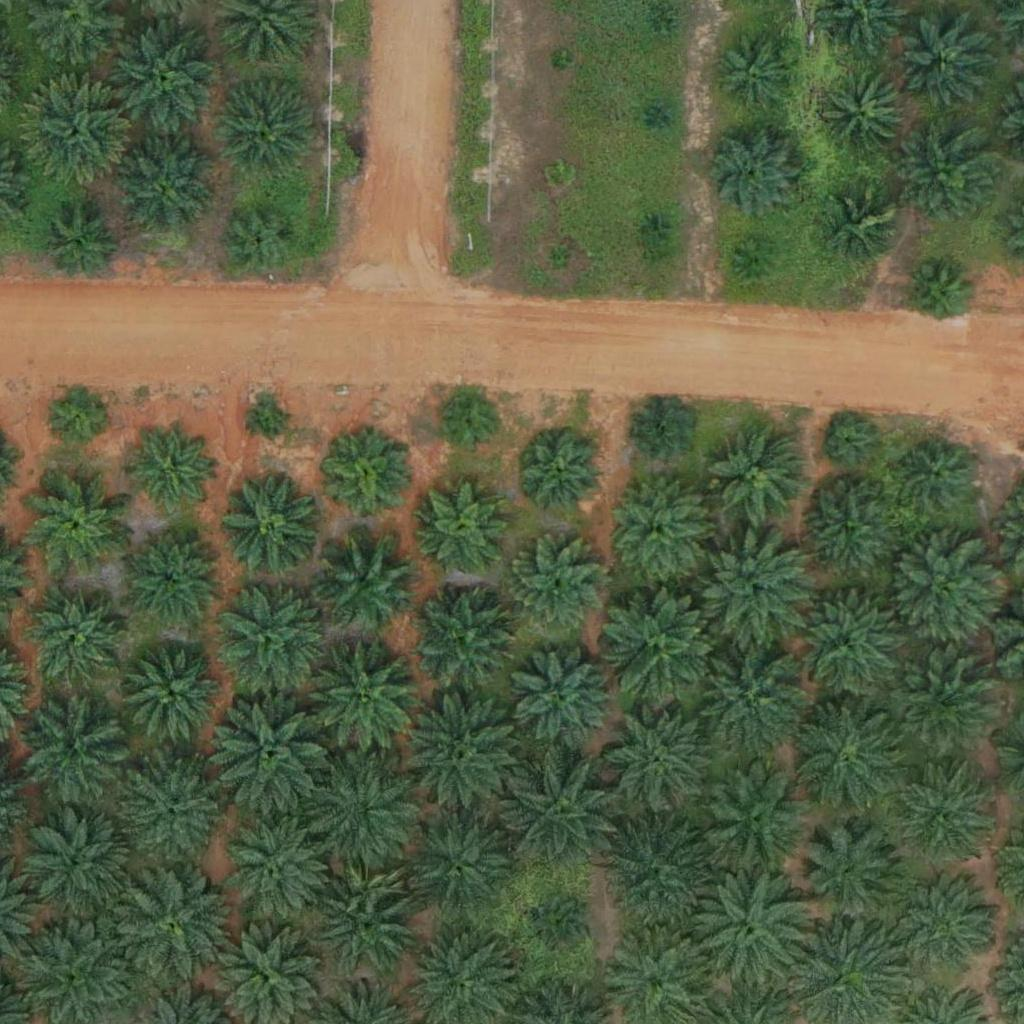Kelapa_Sawit: (205, 694, 330, 820), (298, 751, 423, 877), (394, 693, 519, 819), (499, 752, 624, 878), (600, 583, 725, 709), (596, 812, 721, 938), (683, 632, 808, 758), (693, 863, 818, 989), (788, 694, 913, 820), (108, 864, 233, 989), (784, 586, 909, 711), (308, 642, 421, 756), (408, 583, 521, 697), (108, 20, 221, 133), (400, 810, 513, 923), (697, 532, 810, 645), (698, 764, 811, 877), (793, 820, 906, 933), (892, 874, 1005, 987), (21, 81, 133, 194), (697, 117, 809, 230), (214, 577, 326, 690), (217, 813, 329, 926), (307, 862, 419, 975), (508, 644, 620, 757), (599, 701, 711, 814), (886, 535, 998, 648), (887, 647, 999, 760), (898, 126, 998, 227), (115, 138, 215, 239), (29, 475, 129, 576), (24, 590, 124, 691), (25, 704, 125, 805), (29, 808, 129, 909), (121, 527, 221, 628), (123, 643, 223, 744), (120, 759, 220, 860), (504, 537, 604, 638), (608, 478, 708, 579), (708, 426, 808, 527), (797, 480, 897, 581), (218, 80, 318, 180), (221, 472, 321, 572), (316, 530, 416, 630), (715, 28, 803, 117), (821, 72, 909, 160), (126, 427, 214, 515), (419, 482, 507, 570), (518, 431, 606, 519), (899, 770, 987, 858), (901, 24, 988, 112), (325, 436, 412, 524), (224, 202, 299, 278), (828, 190, 903, 265), (42, 208, 117, 283), (900, 439, 975, 514), (907, 263, 970, 326), (529, 898, 592, 961), (630, 401, 693, 464), (45, 382, 107, 445), (440, 394, 502, 457), (825, 418, 875, 468), (737, 239, 775, 277), (252, 402, 289, 440), (647, 15, 672, 40), (549, 50, 574, 75), (545, 162, 570, 187), (548, 246, 573, 271), (648, 104, 673, 129), (641, 214, 666, 239)
